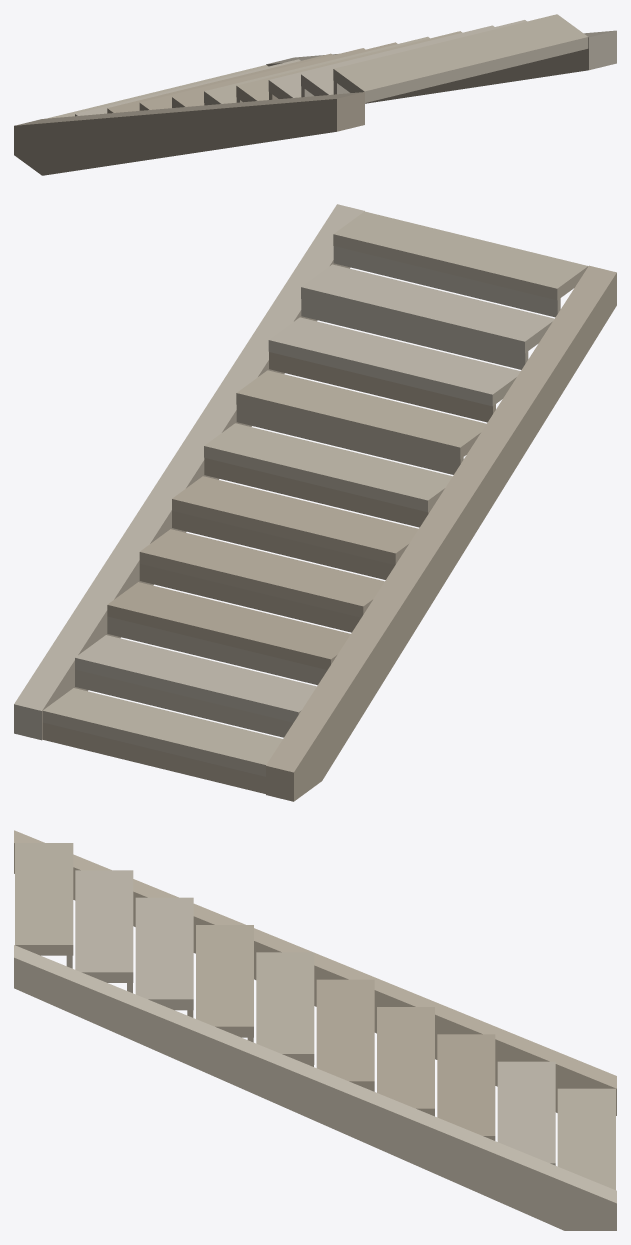
The model's file is Stairs.glb.
3 renders of one model, top to bottom at view 1: azimuth 30°, elevation 25°; view 2: azimuth 150°, elevation 25°; view 3: azimuth 270°, elevation 25°, orthographic. The views are drawn at different scales.
Visible parts, largest first — view 1: Wood; view 2: Wood; view 3: Wood.
Boxes of the visible parts, x1,y1,x2,y2 form: Wood: (14,14,616,175); Wood: (14,204,616,801); Wood: (14,830,616,1230).
Size of what is drawn, in the model's own units: 4 by 4 by 8.
